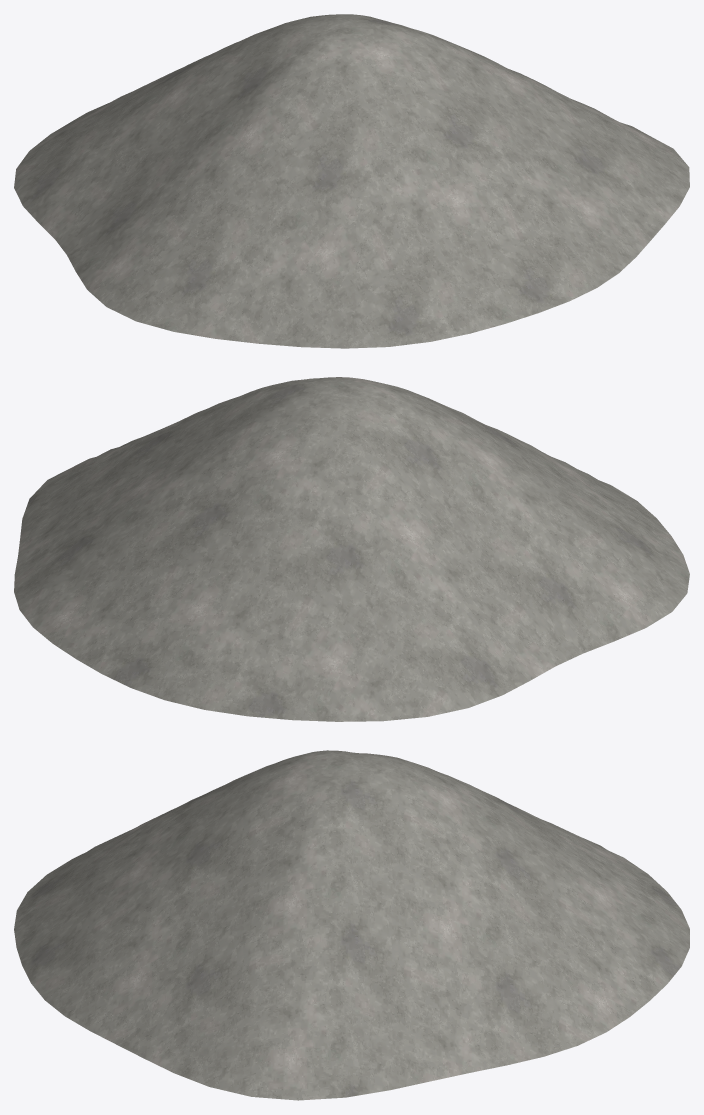
The model's file is PAV-BAS-002_lod1.glb.
The picture shows the model from 3 angles, top to bottom: view 1: azimuth 30°, elevation 25°; view 2: azimuth 150°, elevation 25°; view 3: azimuth 270°, elevation 25°; orthographic projection. The views are drawn at different scales.
Visible parts, largest first — view 1: PAV-BAS-002_monte; view 2: PAV-BAS-002_monte; view 3: PAV-BAS-002_monte.
Part boxes in pixels (box(x1,y1,x2,y2)): PAV-BAS-002_monte: box(14, 14, 689, 348); PAV-BAS-002_monte: box(14, 377, 689, 721); PAV-BAS-002_monte: box(14, 750, 689, 1100).
Bounding box in the file's own units: 1.8 × 0.5235 × 1.75.
Materials: 1 (1 with a texture image).
